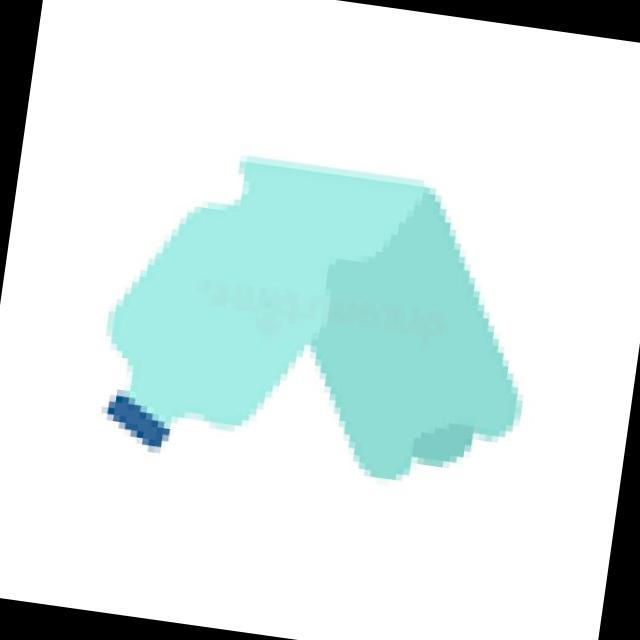defected: (72, 108, 580, 532)
